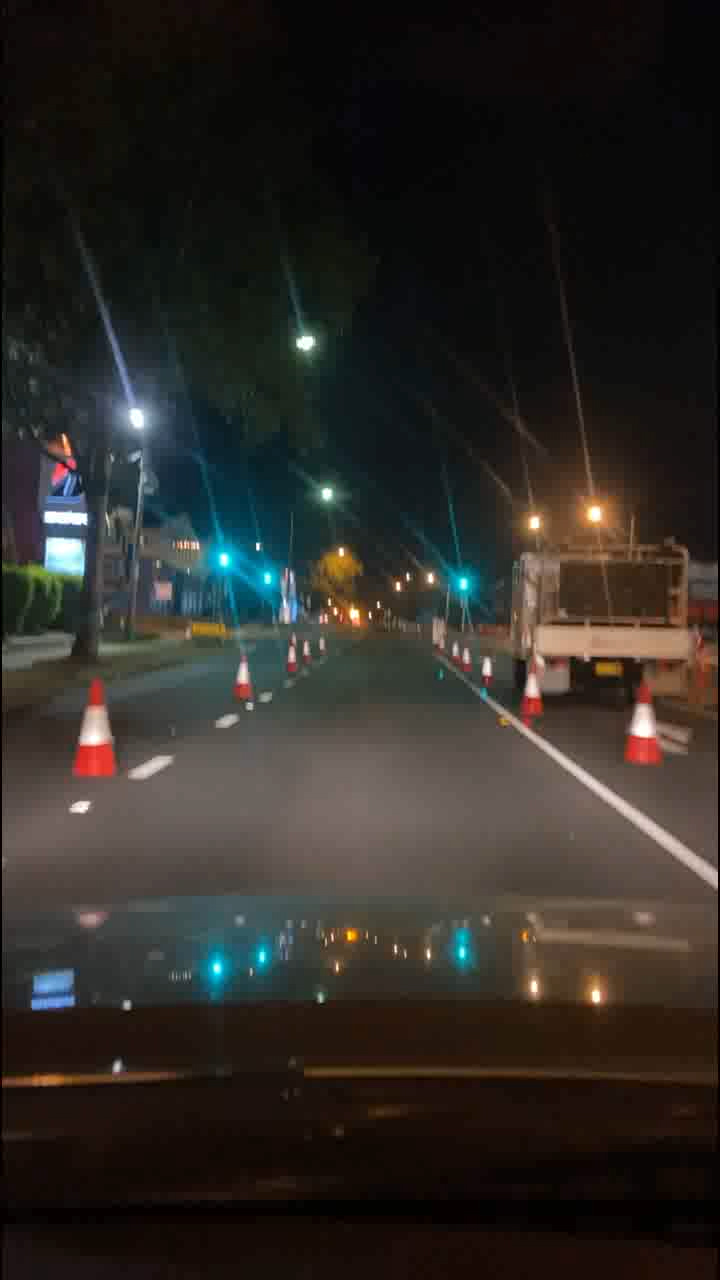road cone: (74, 667, 122, 782), (629, 684, 664, 769), (511, 659, 545, 734), (222, 646, 256, 711), (279, 625, 325, 671)
truck: (490, 537, 699, 682)
